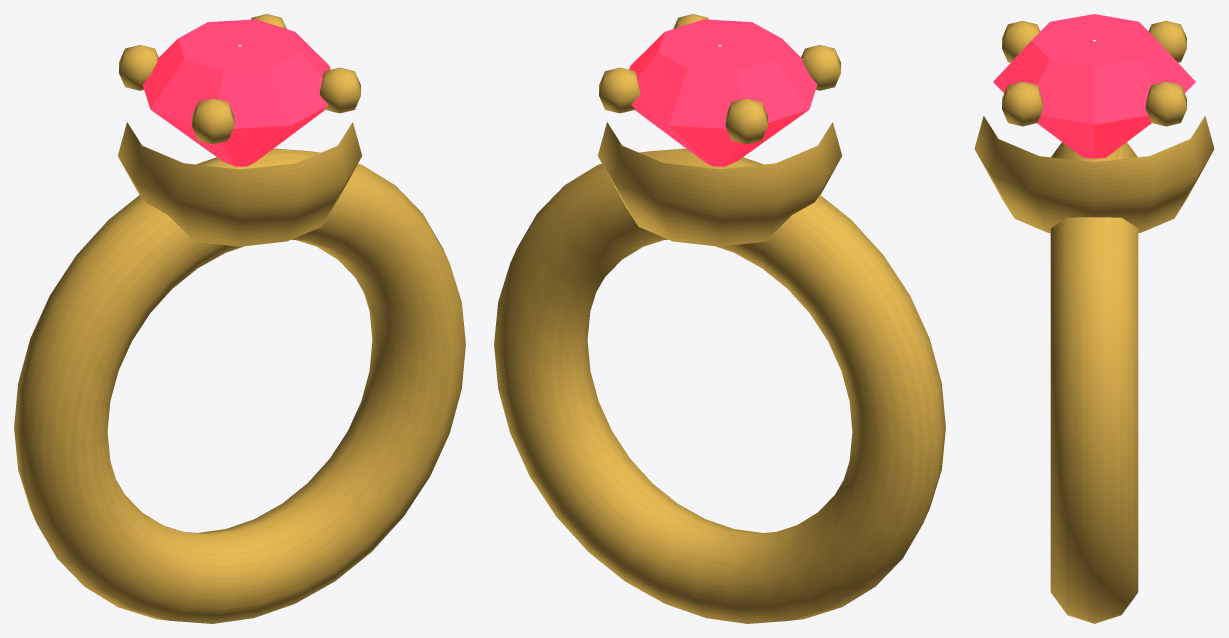
Rendered from ring.glb.
3 renders of one model, left to right at view 1: azimuth 30°, elevation 25°; view 2: azimuth 150°, elevation 25°; view 3: azimuth 270°, elevation 25°, orthographic.
Visible parts, largest first — view 1: ring; view 2: ring; view 3: ring.
Boxes of the visible parts, x1,y1,x2,y2 form: ring: [14, 14, 465, 623]; ring: [494, 14, 945, 623]; ring: [974, 14, 1214, 623].
Bounding box in the file's own units: 0.027 × 0.0335 × 0.013.
2 materials, 1 textured.
